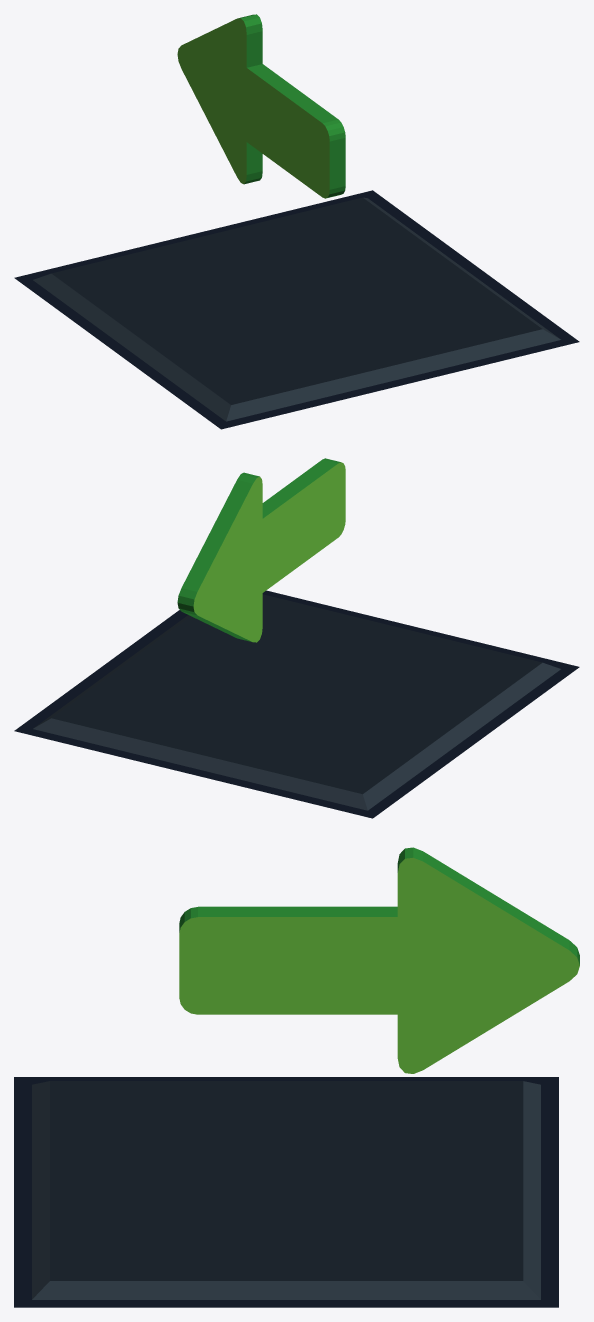
File: DirectionTile.fbx
3 views of the same model, one above another, from view 1: azimuth 30°, elevation 25°; view 2: azimuth 150°, elevation 25°; view 3: azimuth 270°, elevation 25° (orthographic). The views are drawn at different scales.
Parts seen in each view (by area): view 1: DirectionTile; view 2: DirectionTile; view 3: DirectionTile.
Part boxes in pixels (bbox=[...]): DirectionTile: bbox=[14, 14, 579, 429]; DirectionTile: bbox=[14, 458, 579, 818]; DirectionTile: bbox=[14, 847, 579, 1307].
Size of the model in its own units: 100 by 104 by 68.77.
